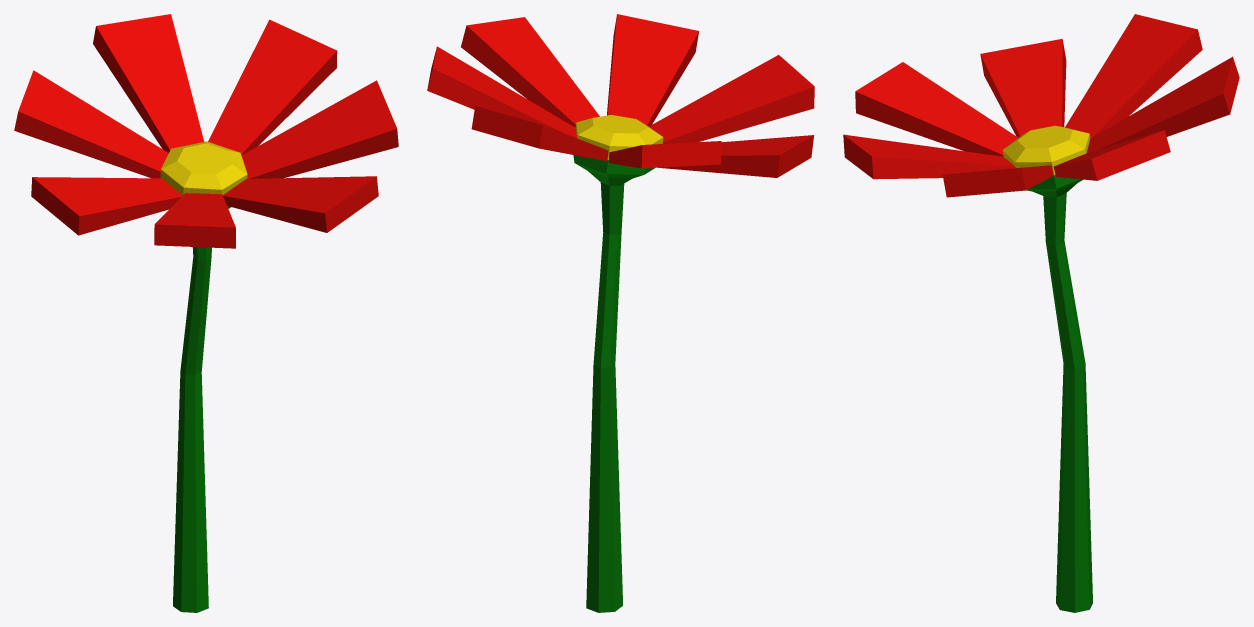
The model's file is FlowerRed.fbx.
3 renders of one model, left to right at view 1: azimuth 30°, elevation 25°; view 2: azimuth 150°, elevation 25°; view 3: azimuth 270°, elevation 25°, orthographic. The views are drawn at different scales.
Visible parts, largest first — view 1: flower; view 2: flower; view 3: flower.
Part boxes in pixels (box(x1,y1,x2,y2)): flower: box(14, 14, 398, 612); flower: box(427, 14, 814, 612); flower: box(843, 14, 1239, 612).
Bounding box in the file's own units: 17.91 × 27.5 × 18.32.
